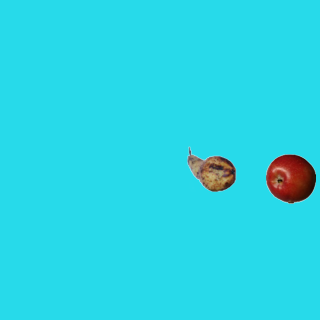Apple Braeburn: (265, 153, 315, 203)
Pear Abate: (186, 144, 236, 194)
